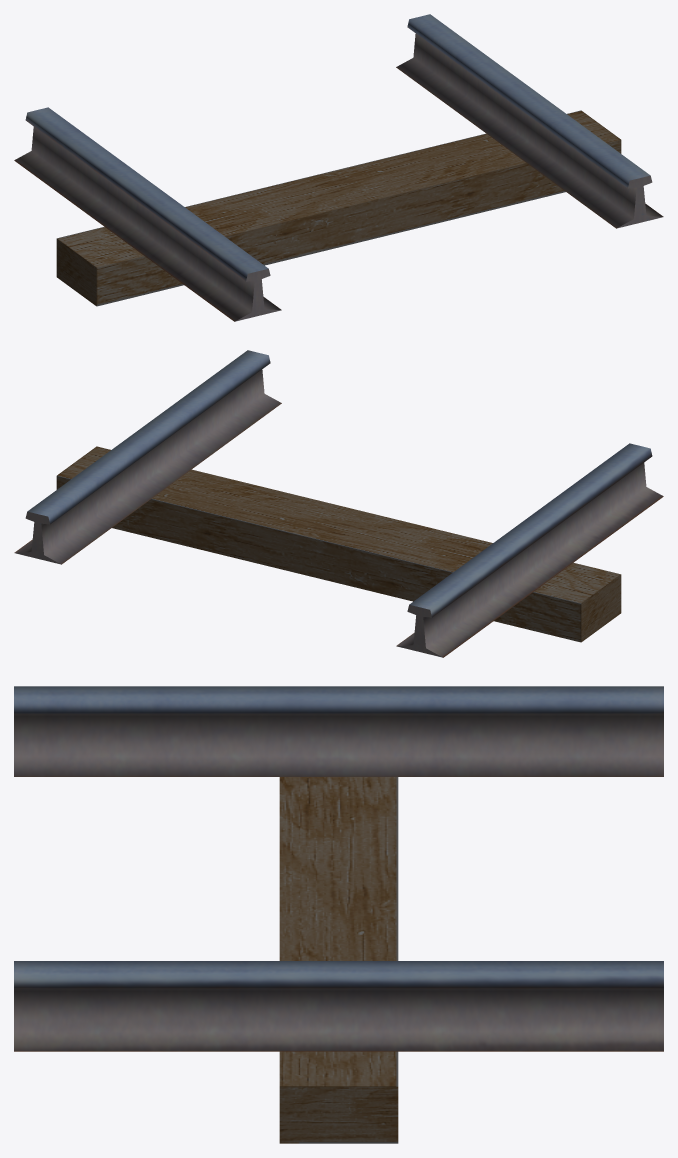
Rendered from TrainRail.fbx.
3 views of the same model, one above another, from view 1: azimuth 30°, elevation 25°; view 2: azimuth 150°, elevation 25°; view 3: azimuth 270°, elevation 25° (orthographic). The views are drawn at different scales.
Visible parts, largest first — view 1: TrainRailRail, TrainRailTie; view 2: TrainRailRail, TrainRailTie; view 3: TrainRailRail, TrainRailTie.
Boxes of the visible parts, bbox=[...] form: TrainRailRail: bbox=[14, 14, 663, 321]; TrainRailTie: bbox=[56, 110, 621, 306]; TrainRailRail: bbox=[14, 350, 663, 657]; TrainRailTie: bbox=[56, 446, 621, 642]; TrainRailRail: bbox=[14, 686, 663, 1051]; TrainRailTie: bbox=[279, 777, 398, 1143].
Bounding box in the file's own units: 1.37 × 0.2098 × 1.
Materials: 2 (2 with a texture image).
